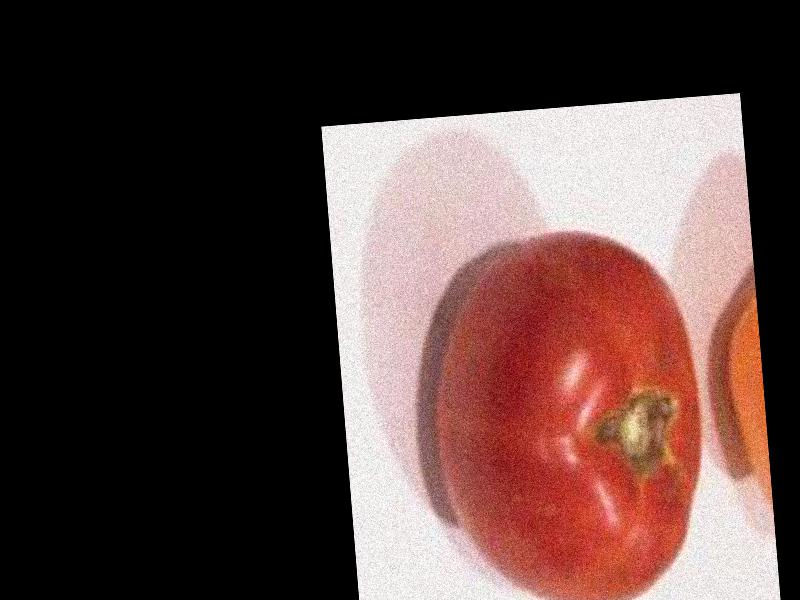Tomato: (425, 226, 713, 600)
